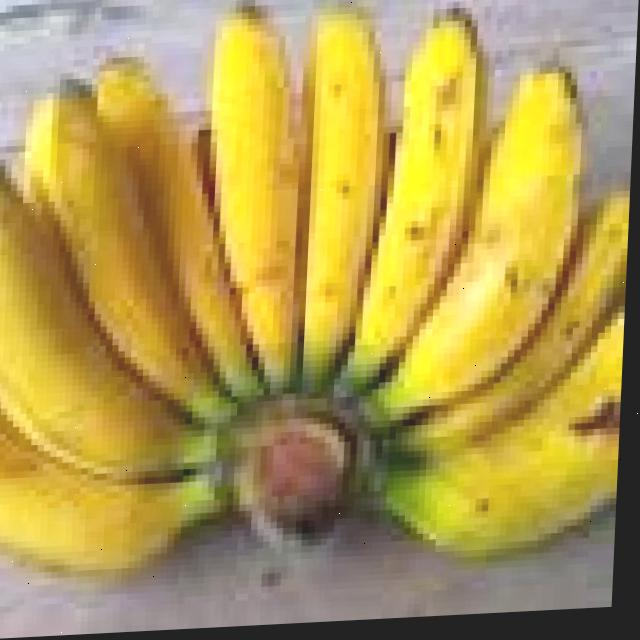banana: (0, 0, 639, 589), (397, 52, 598, 413), (13, 66, 208, 434), (0, 144, 185, 492), (79, 45, 247, 386), (353, 0, 492, 384), (193, 0, 313, 399), (295, 0, 390, 393)
